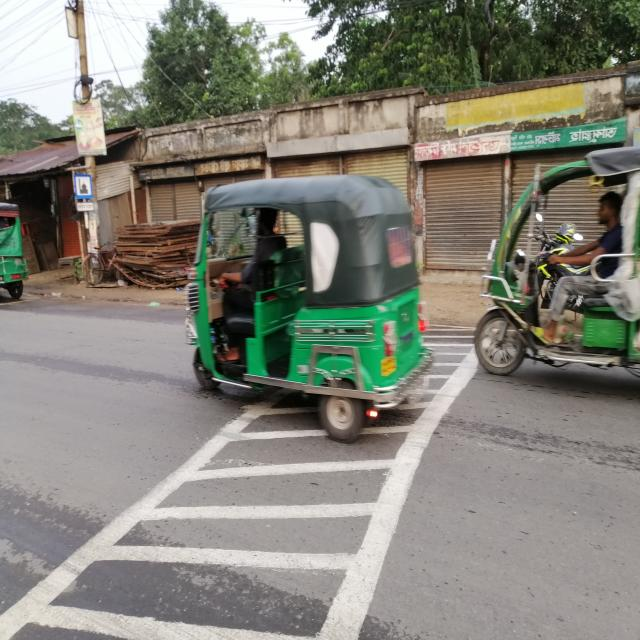CNG: (180, 165, 434, 437)
